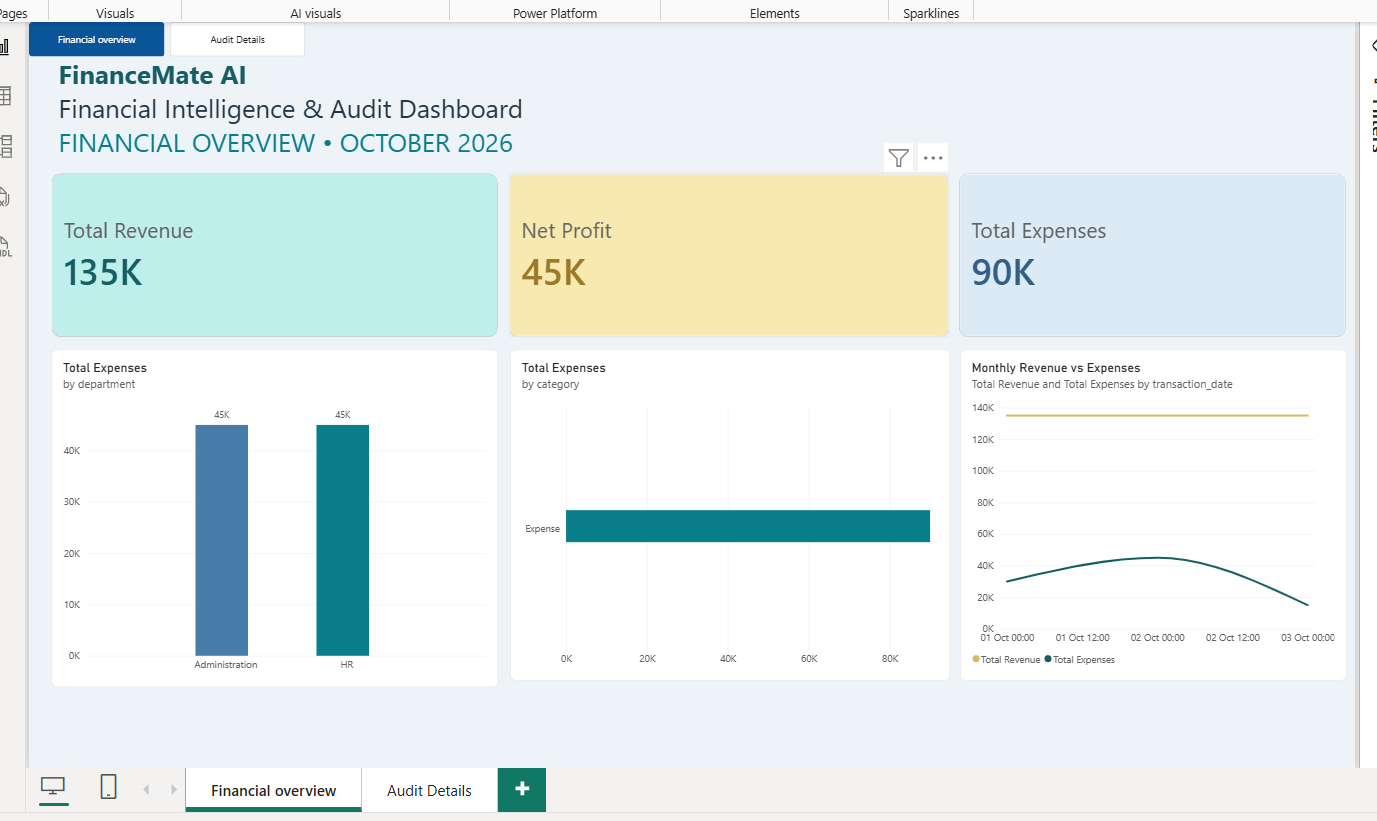

The page's visual inventory and layout, read from the dashboard file:
{"tool":"powerbi","page":{"name":"Financial overview","canvas":[1920,1080],"ordinal":0},"visuals":[{"type":"cardVisual","fields":{"Data":["public sales_transactions.Total Revenue"]},"box":[32.6,219,646,237.1],"z":0},{"type":"cardVisual","fields":{"Data":["public bank_transactions.Total Expenses"]},"box":[1346.4,219,561,237.1],"z":1000},{"type":"cardVisual","fields":{"Data":["public bank_transactions.Net Profit"]},"box":[694.9,219,637,237.1],"z":2000},{"type":"clusteredColumnChart","fields":{"Category":["public expense_transactions.department"],"Y":["public bank_transactions.Total Expenses"]},"box":[32.6,474.1,646,488.6],"z":3000},{"type":"clusteredBarChart","fields":{"Category":["public expense_transactions.category"],"Y":["public bank_transactions.Total Expenses"]},"box":[696.7,474.1,637,479.6],"z":4000},{"type":"lineChart","title":"Monthly Revenue vs Expenses","fields":{"Category":["public expense_transactions.transaction_date","public sales_transactions.transaction_date"],"Y":["public sales_transactions.Total Revenue","public bank_transactions.Total Expenses"]},"box":[1348.2,474.1,559.2,479.6],"z":5000},{"type":"textbox","box":[32.6,0,801.7,219],"z":6000},{"type":"textbox","box":[1334,0,586,168],"z":7000},{"type":"textbox","box":[1755,661,152,186],"z":8000},{"type":"textbox","box":[1464,878,291,202],"z":9000},{"type":"textbox","box":[32.6,582.7,664.1,77.8],"z":10000},{"type":"pageNavigator","box":[0,0,400,50],"z":10001}]}

Visuals, with their boxes on the page's 1920x1080 design canvas (x1, y1, x2, y2). These are canvas units, not pixel positions in the 1377x821 screenshot, which may show the page scaled, cropped or inside an application window:
cardVisual - public sales_transactions.Total Revenue: pyautogui.locateOnScreen(33, 219, 679, 456)
cardVisual - public bank_transactions.Total Expenses: pyautogui.locateOnScreen(1346, 219, 1907, 456)
cardVisual - public bank_transactions.Net Profit: pyautogui.locateOnScreen(695, 219, 1332, 456)
clusteredColumnChart - public expense_transactions.department x public bank_transactions.Total Expenses: pyautogui.locateOnScreen(33, 474, 679, 963)
clusteredBarChart - public expense_transactions.category x public bank_transactions.Total Expenses: pyautogui.locateOnScreen(697, 474, 1334, 954)
"Monthly Revenue vs Expenses" lineChart: pyautogui.locateOnScreen(1348, 474, 1907, 954)
textbox: pyautogui.locateOnScreen(33, 0, 834, 219)
textbox: pyautogui.locateOnScreen(1334, 0, 1920, 168)
textbox: pyautogui.locateOnScreen(1755, 661, 1907, 847)
textbox: pyautogui.locateOnScreen(1464, 878, 1755, 1080)
textbox: pyautogui.locateOnScreen(33, 583, 697, 660)
pageNavigator: pyautogui.locateOnScreen(0, 0, 400, 50)
